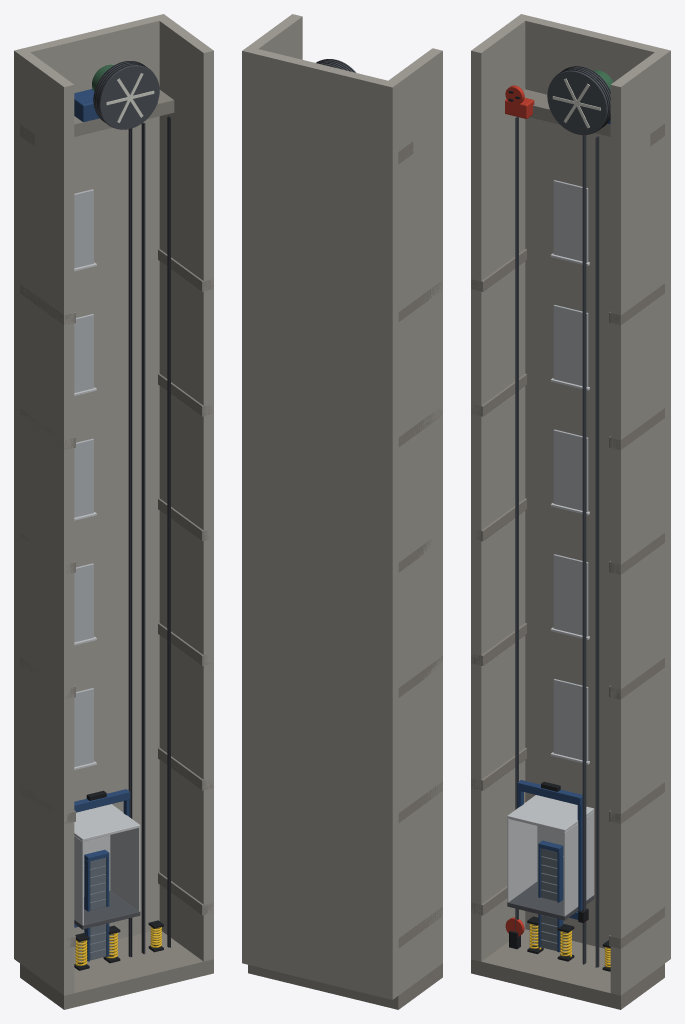
File: elevator.glb
3 views of the same model, side by side, from view 1: azimuth 30°, elevation 25°; view 2: azimuth 150°, elevation 25°; view 3: azimuth 330°, elevation 25° (orthographic).
Parts seen in each view (by area): view 1: wall_back, floor_edge, rail_car_base, door, car_back, sheave_disc, cw_block, car_floor, cw_frame, buffer_car, crosshead, machine_base (+3 smaller); view 2: wall_back, floor_edge; view 3: wall_back, floor_edge, door, rail_car_base, car_back, sheave_disc, crosshead, cw_block, car_floor, cw_frame, sill, gov_body (+3 smaller).
Boxes of the visible parts, x1,y1,x2,y2 form: wall_back: [14, 14, 213, 995]; floor_edge: [20, 90, 213, 1009]; rail_car_base: [128, 116, 170, 957]; door: [74, 189, 93, 766]; car_back: [74, 804, 140, 925]; sheave_disc: [93, 61, 159, 129]; cw_block: [90, 857, 106, 960]; car_floor: [74, 890, 140, 929]; cw_frame: [84, 849, 109, 961]; buffer_car: [75, 926, 161, 965]; crosshead: [74, 789, 130, 927]; machine_base: [74, 89, 157, 121]; wall_back: [242, 14, 442, 999]; floor_edge: [248, 141, 442, 1009]; wall_back: [471, 14, 670, 995]; floor_edge: [471, 89, 664, 1009]; door: [553, 180, 588, 761]; rail_car_base: [515, 117, 599, 967]; car_back: [507, 795, 594, 916]; sheave_disc: [547, 66, 610, 134]; crosshead: [517, 780, 582, 919]; cw_block: [541, 848, 557, 950]; car_floor: [507, 881, 594, 920]; cw_frame: [538, 840, 563, 952]; sill: [550, 253, 589, 764]; gov_body: [505, 98, 534, 936].
Bounding box in the file's own units: 4.4 × 25.9 × 2.55.
